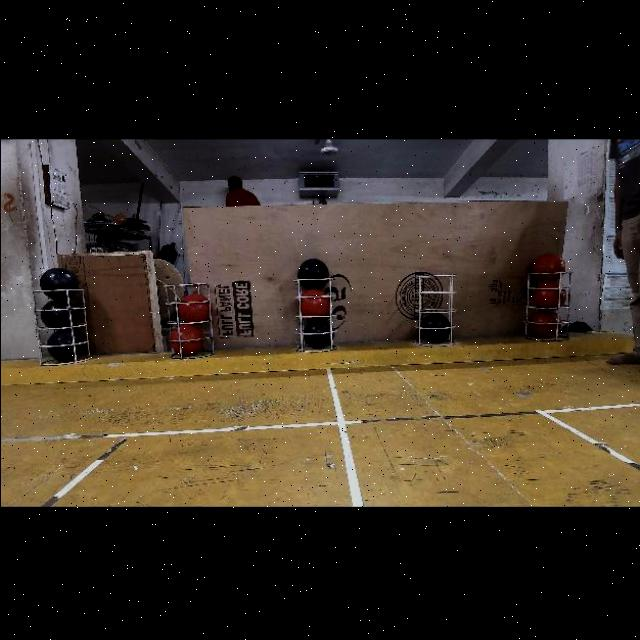P: (39, 266, 77, 298), (46, 330, 82, 360), (40, 300, 76, 328), (420, 313, 450, 342), (297, 258, 327, 286), (303, 320, 333, 348)
R: (170, 323, 202, 355), (532, 281, 564, 311), (532, 252, 565, 281), (299, 288, 329, 318), (177, 294, 209, 322), (528, 311, 560, 337)
S: (34, 286, 92, 358), (522, 268, 576, 344), (164, 278, 212, 356), (289, 276, 335, 352), (413, 268, 453, 352)
